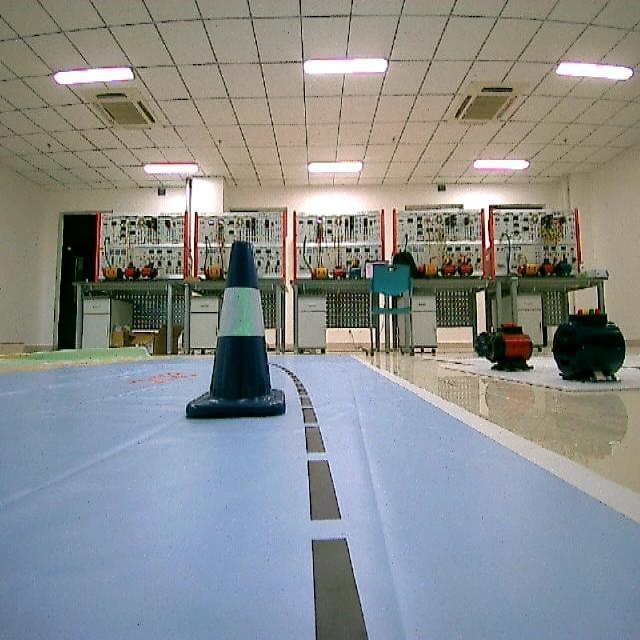obstacle: (181, 237, 291, 423)
